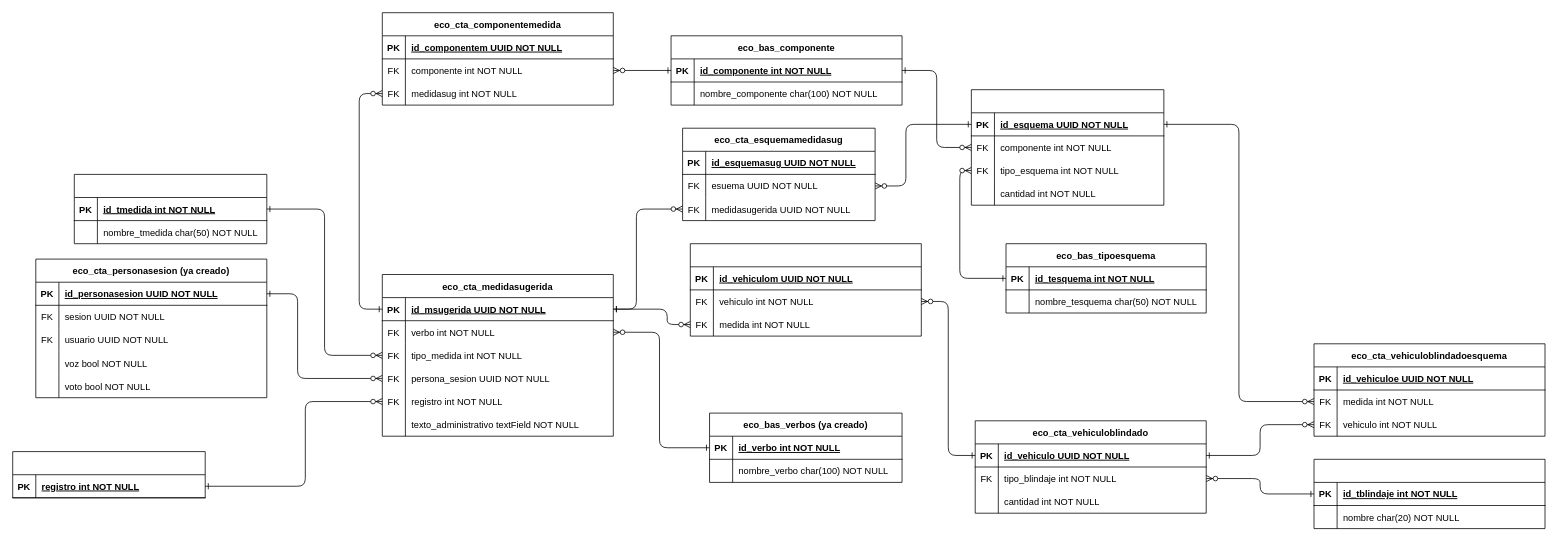
The diagram is 1558 pixels wide and 541 high, and some of its shapes have lost their labels. The shapes that lost their labels are listed below. From the top down, each one's box as (x1, y1, x2, y2) in pixels, then its label:
(971, 89, 1164, 205): eco_cta_esquema
(74, 174, 267, 244): eco_bas_tipomedida
(690, 243, 921, 336): eco_cta_vehiculoblindadomedida
(12, 451, 205, 498): eco_reg_registro
(1313, 459, 1545, 529): eco_bas_tipoblindaje
